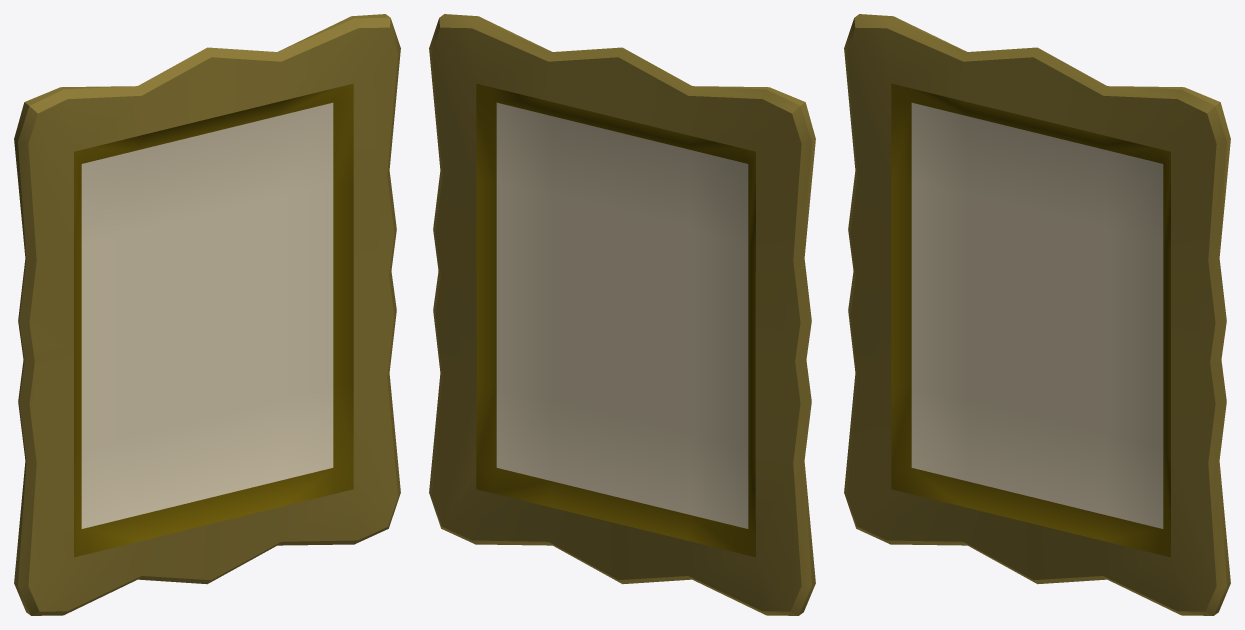
File: portraitwaw.fbx
3 renders of one model, left to right at view 1: azimuth 30°, elevation 25°; view 2: azimuth 150°, elevation 25°; view 3: azimuth 330°, elevation 25°, orthographic.
Visible parts, largest first — view 1: pCube1; view 2: pCube1; view 3: pCube1.
Boxes of the visible parts, left/top/right/bottom form: pCube1: left=14, top=14, right=400, bottom=615; pCube1: left=429, top=14, right=815, bottom=615; pCube1: left=844, top=14, right=1230, bottom=615.
Bounding box in the file's own units: 1.37 × 1.84 × 0.0787.
